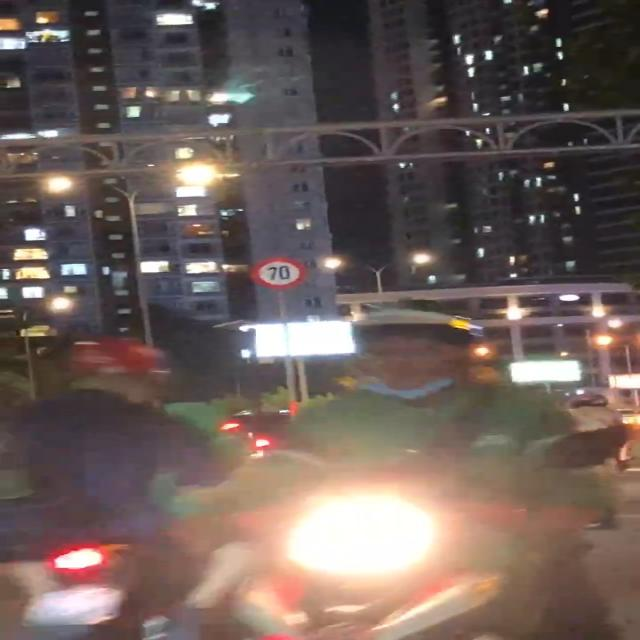Bien bao toc do toi da cho phep: (249, 257, 308, 290)
